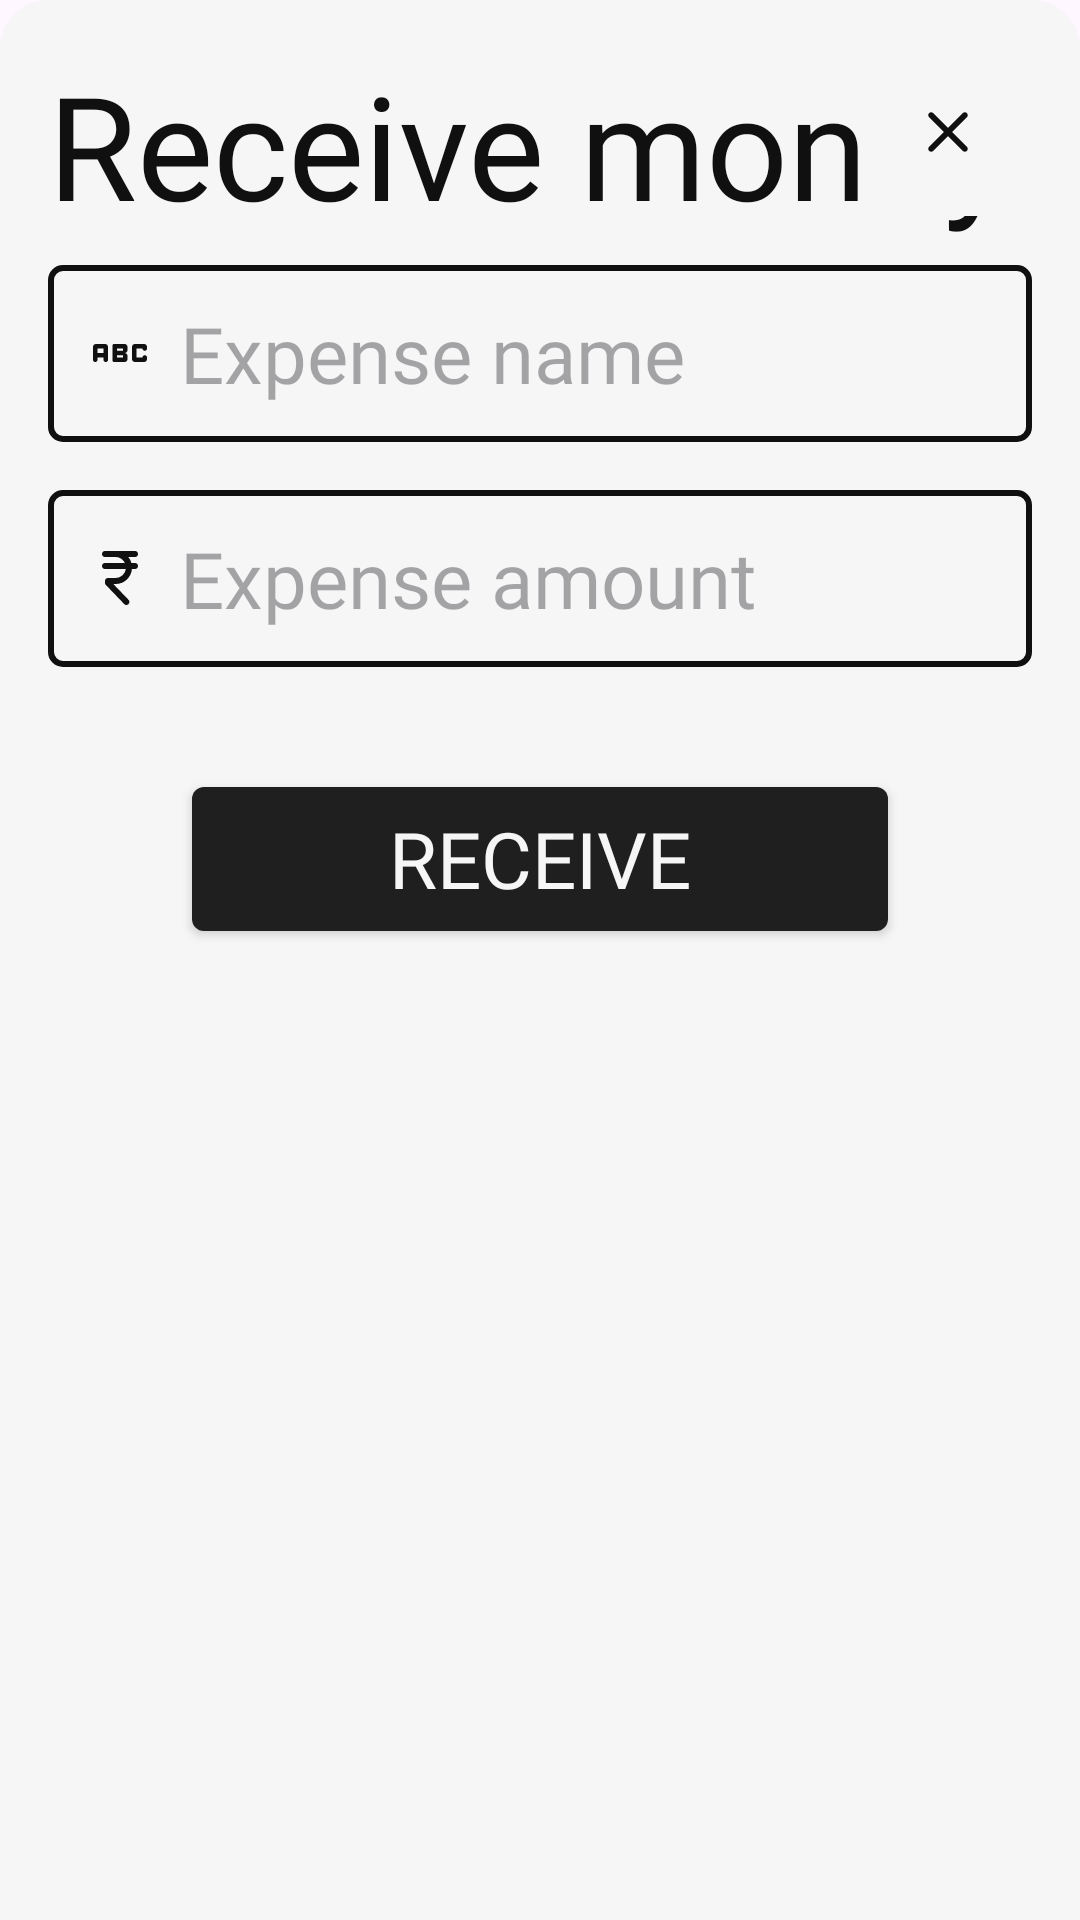

Screen size 1080 × 1920. Icon name, then its box in pixels as [x1,y1,x2,y2]:
close: [928,112,968,152]
